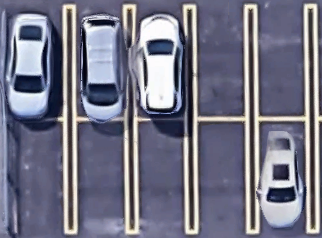Occupied: (4, 6, 66, 118), (134, 5, 186, 120), (256, 118, 308, 232), (75, 6, 125, 119)
Vacant: (4, 118, 66, 232), (194, 6, 247, 120), (74, 119, 127, 232), (134, 120, 187, 233), (255, 5, 308, 118), (195, 120, 248, 232)
